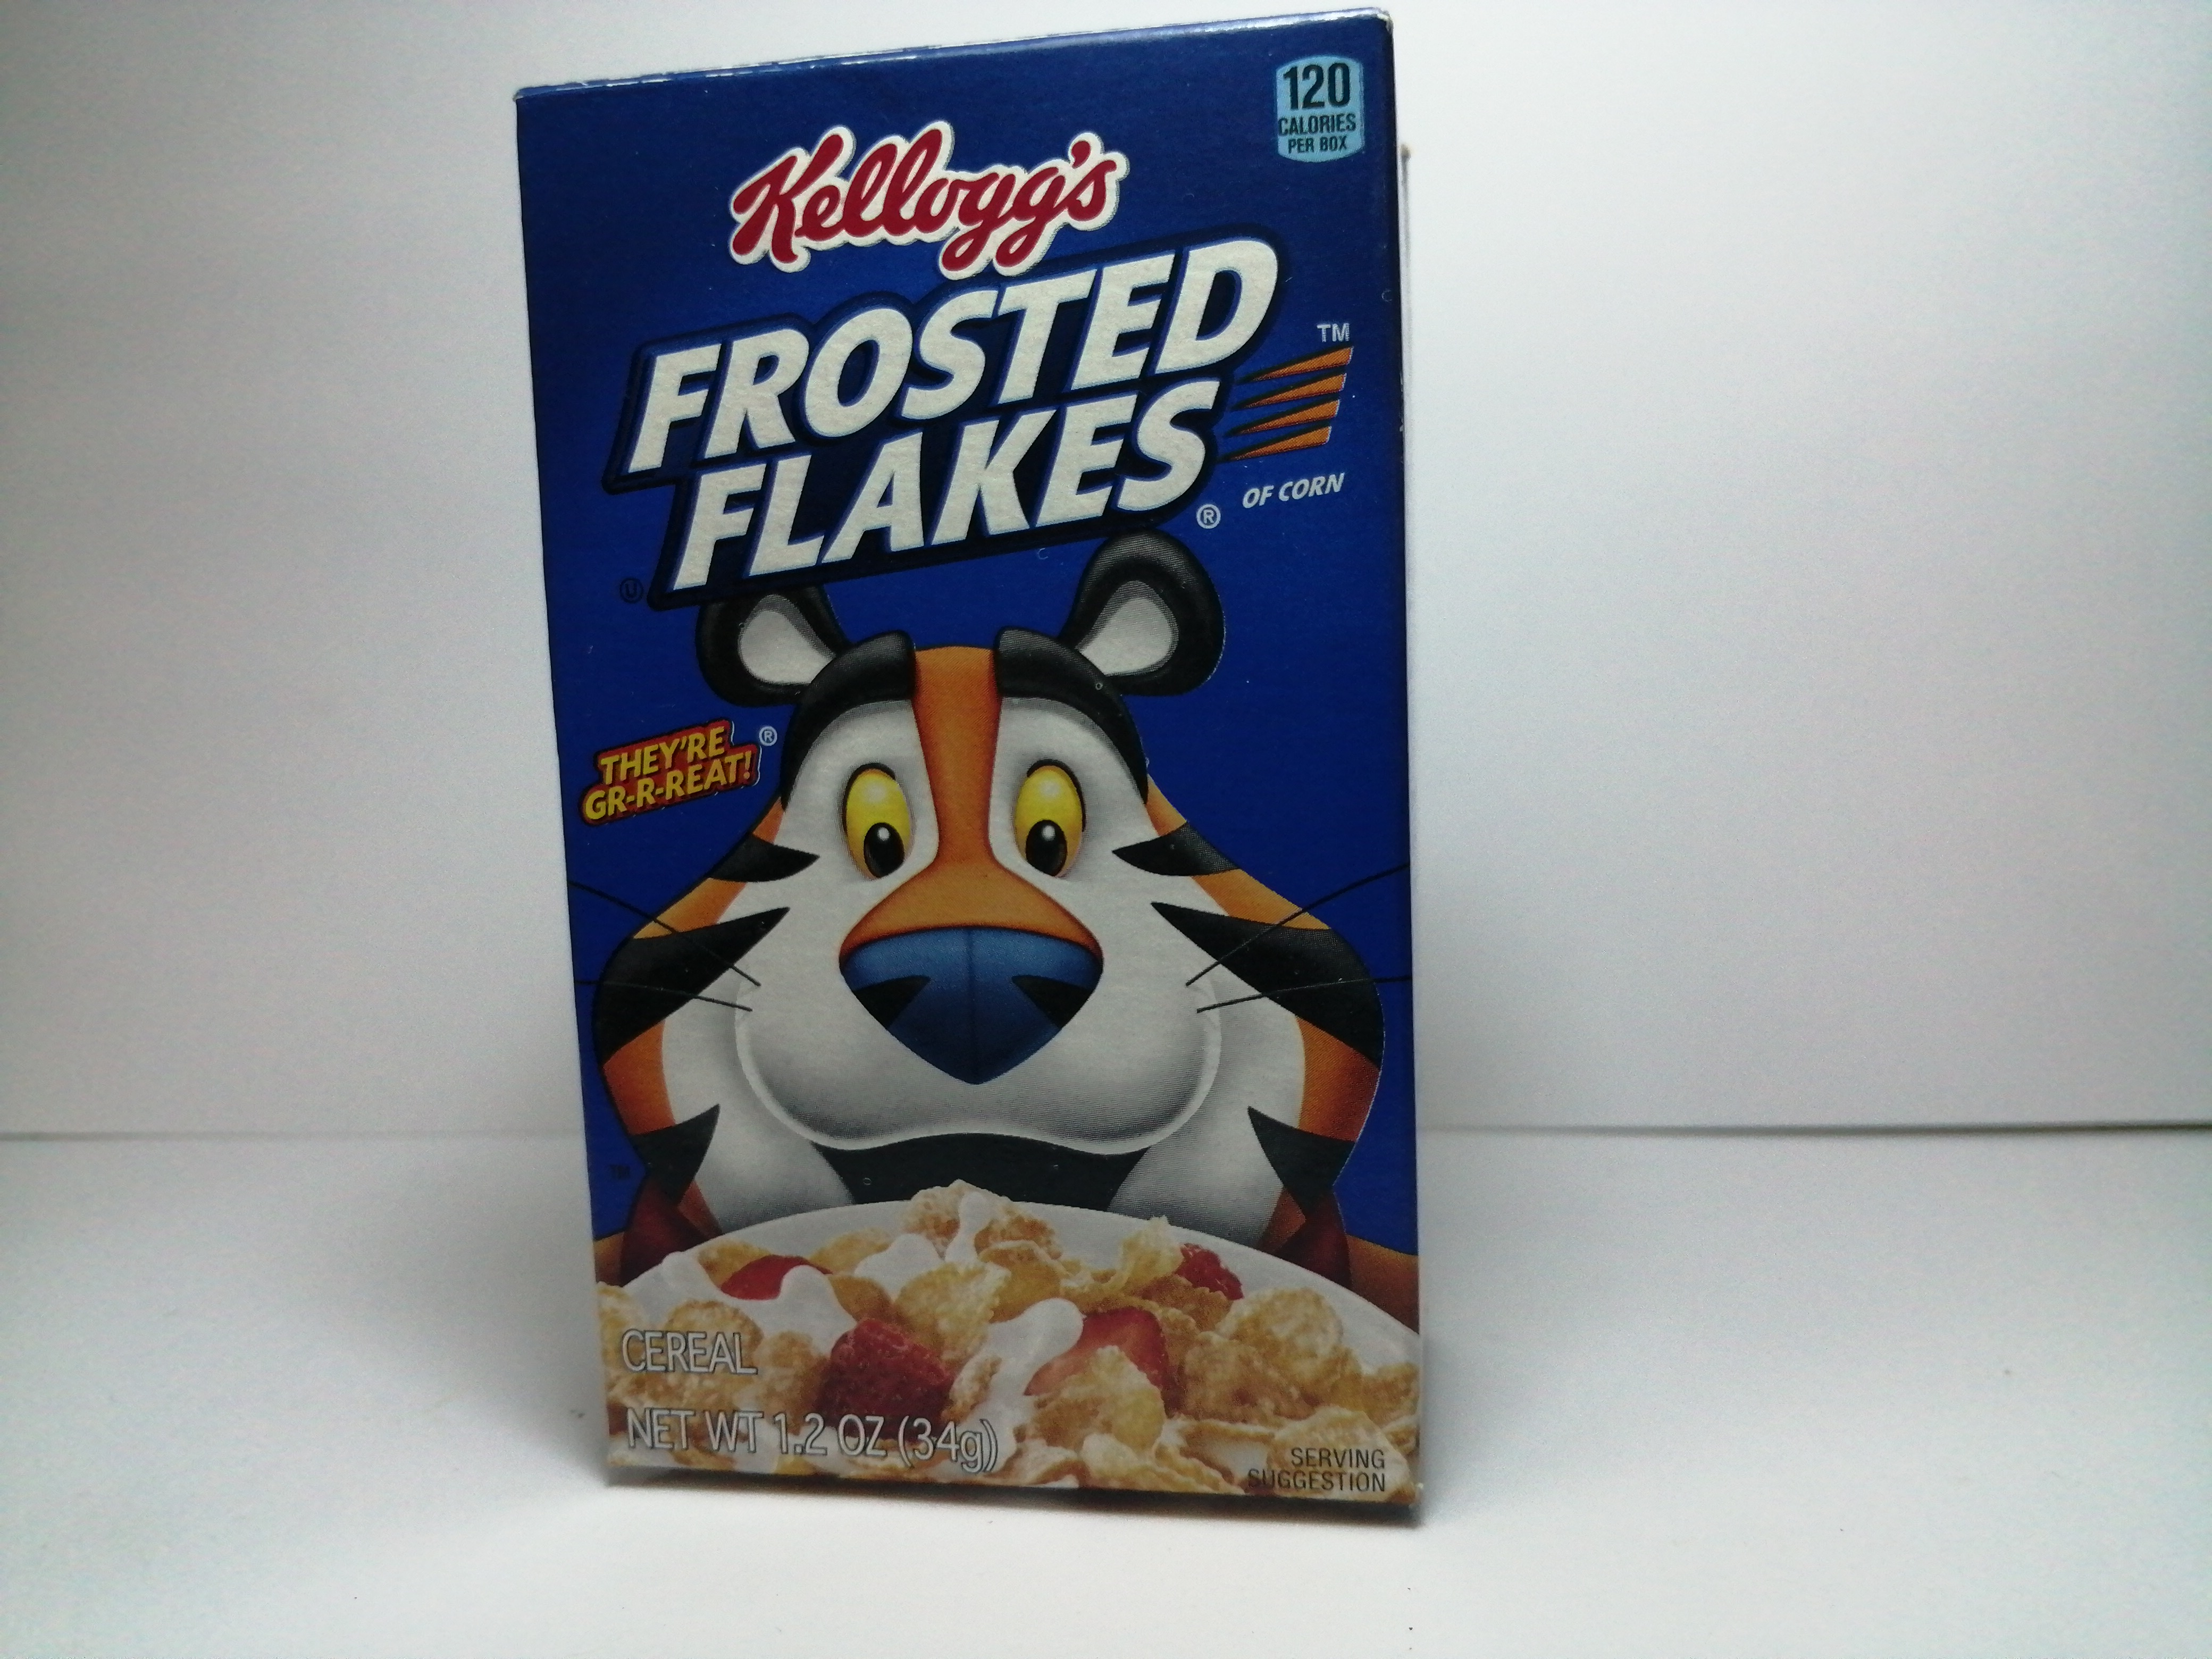cereal azucarado: (474, 12, 1460, 1532)
